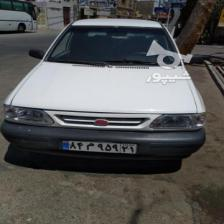plate: (57, 140, 136, 153)
